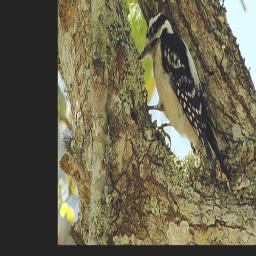Woodpecker: (137, 3, 234, 188)
